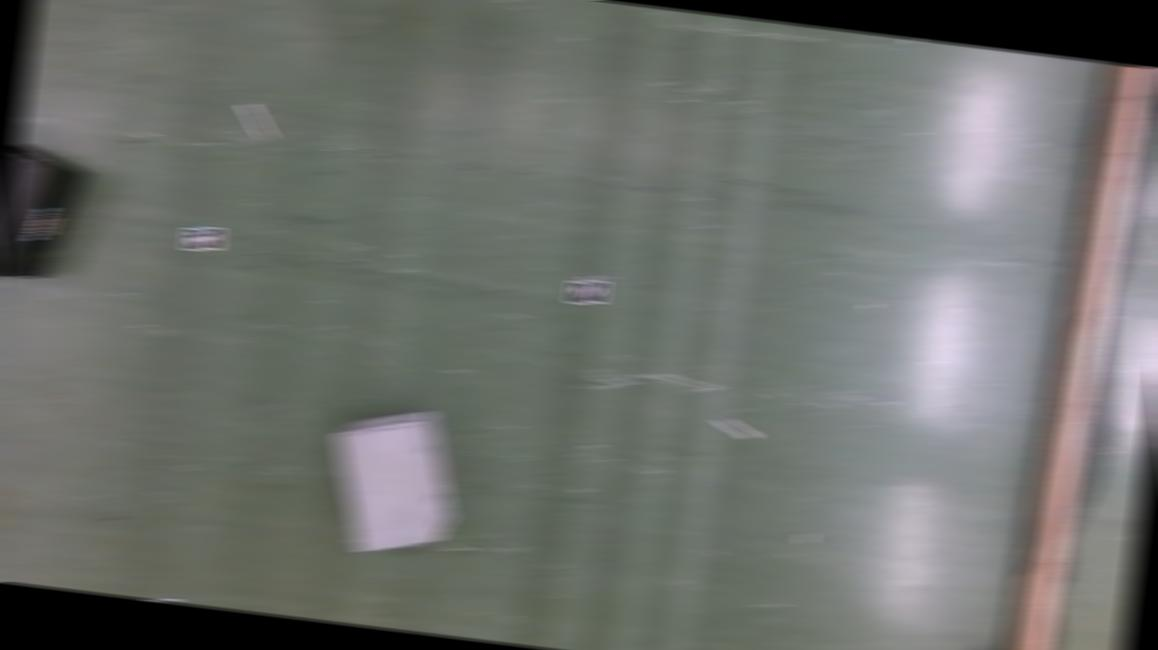probes: (237, 102, 276, 140), (713, 418, 758, 441)
rako: (320, 397, 471, 562), (0, 140, 92, 287)
